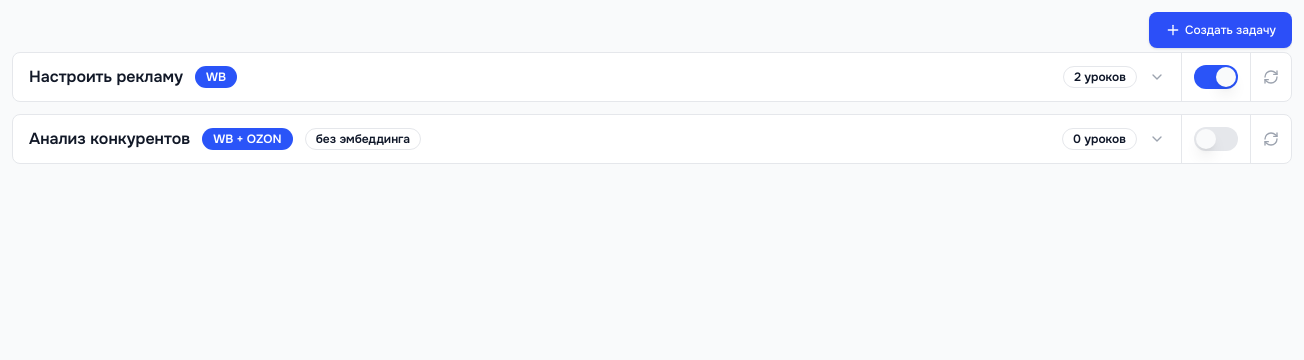
JobManager › expanding a job shows its ordered lessons
expect the text "Урок про автобидер" is not shown: met
Click the text "Настроить рекламу": {"x": 106, "y": 77} [29,65,183,89]
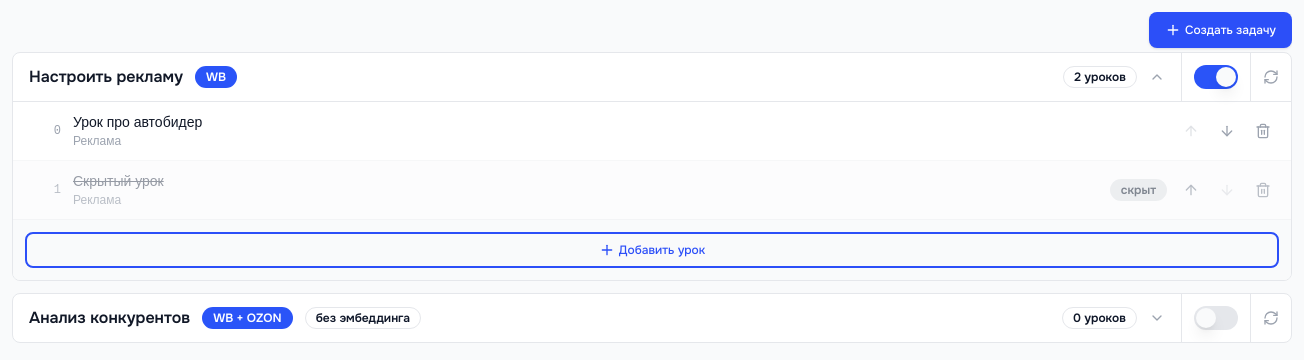
expect the text "Урок про автобидер" is shown: met, box [73,113,202,131]
expect the text "Скрытый урок" is shown: met, box [73,172,164,190]
expect the text "скрыт" is shown: met, box [1110,179,1167,201]
